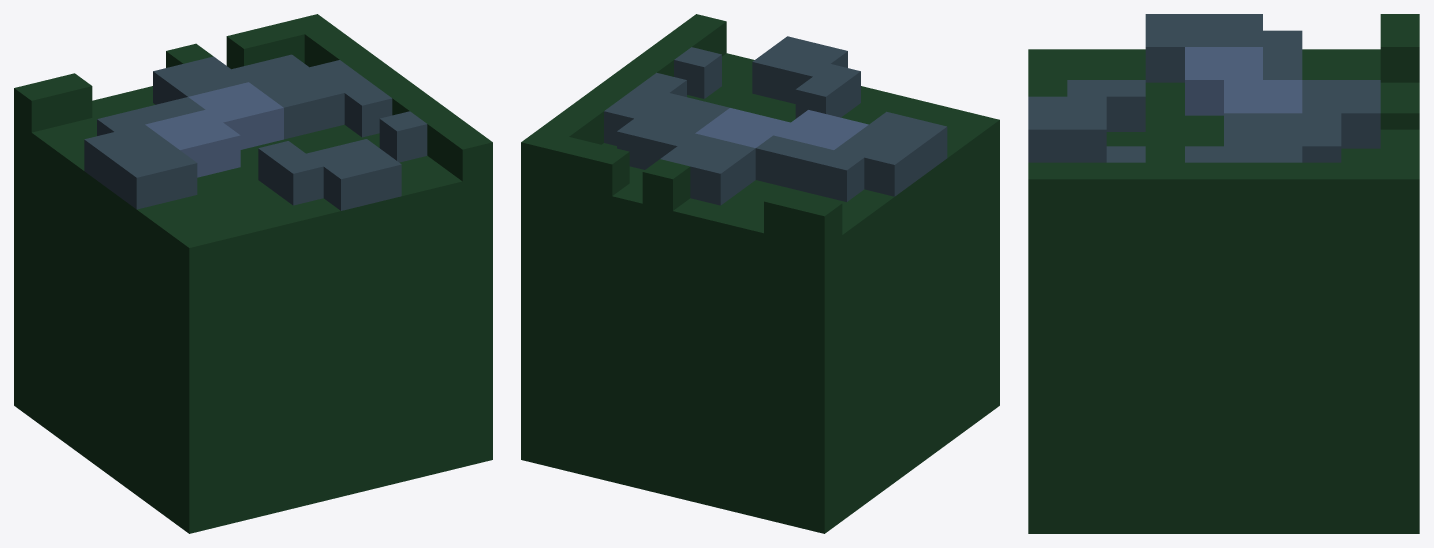
Rendered from Floor 3.obj.
3 renders of one model, left to right at view 1: azimuth 30°, elevation 25°; view 2: azimuth 150°, elevation 25°; view 3: azimuth 270°, elevation 25°, orthographic. The views are drawn at different scales.
Bounding box in the file's own units: 10 × 10 × 10.
1 material, 1 textured.
